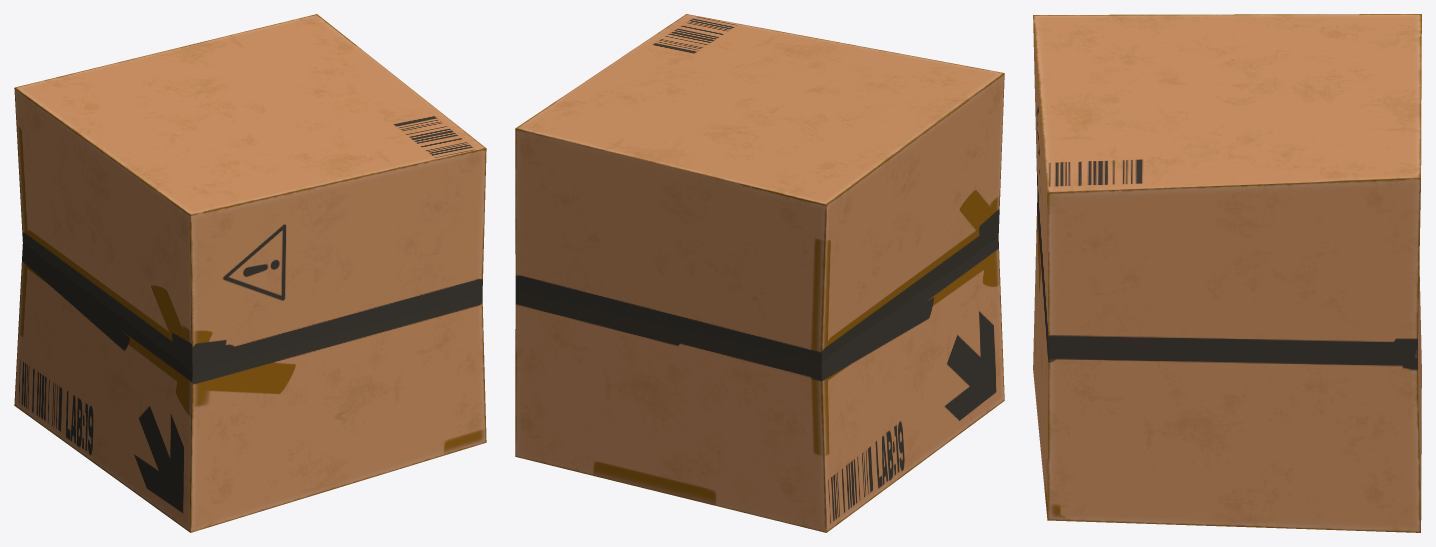
3 renders of one model, left to right at view 1: azimuth 30°, elevation 25°; view 2: azimuth 150°, elevation 25°; view 3: azimuth 270°, elevation 25°, orthographic. The views are drawn at different scales.
Visible parts, largest first — view 1: Box.02; view 2: Box.02; view 3: Box.02.
Part boxes in pixels (bbox=[...]): Box.02: bbox=[14, 14, 486, 532]; Box.02: bbox=[515, 14, 1004, 532]; Box.02: bbox=[1033, 14, 1421, 532].
Size of the model in its own units: 0.4977 by 0.498 by 0.4948.
Materials: 1 (1 with a texture image).
